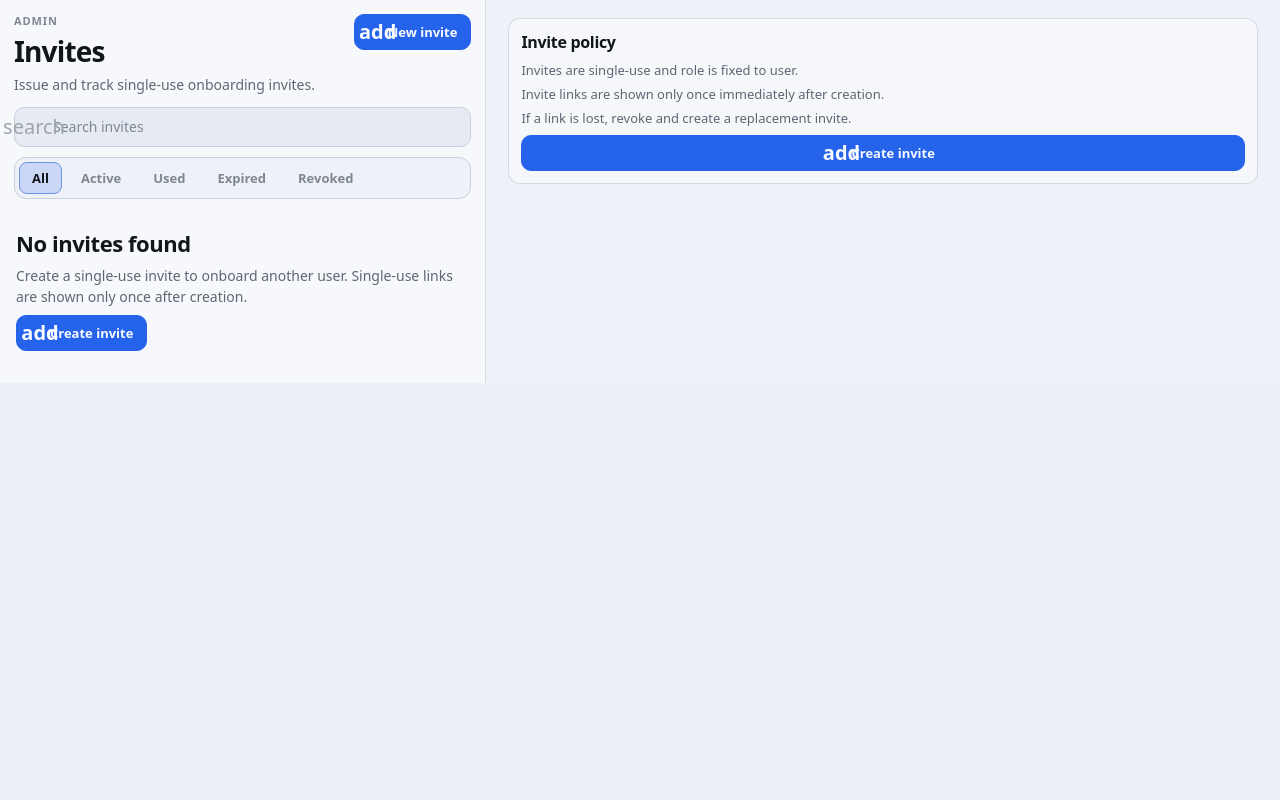
Scenario: AdminConsolePage › switches create invite dialog to post-creation state with Done action
Click the button "add New invite" at (413, 32), box [354,14,471,50]
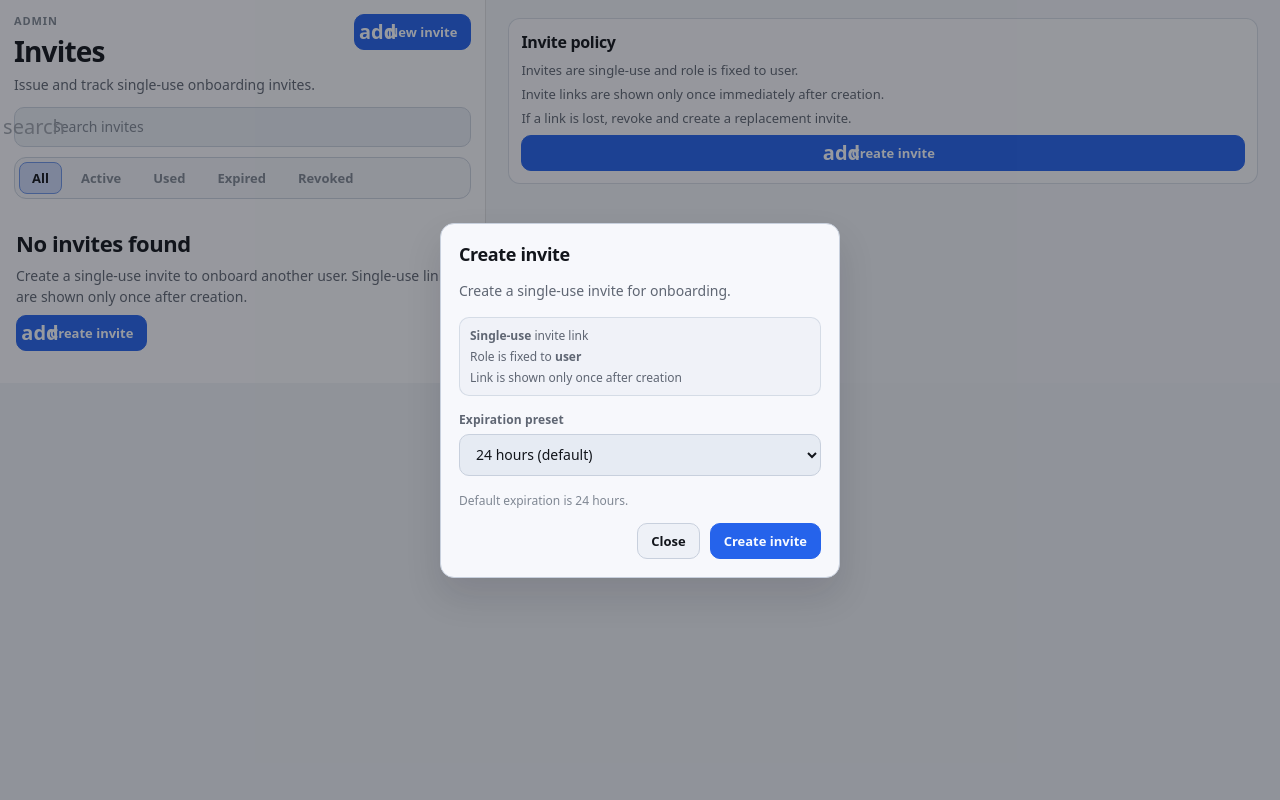
Click the button with test id "admin-create-invite-submit" at (765, 540), box [710,522,821,558]
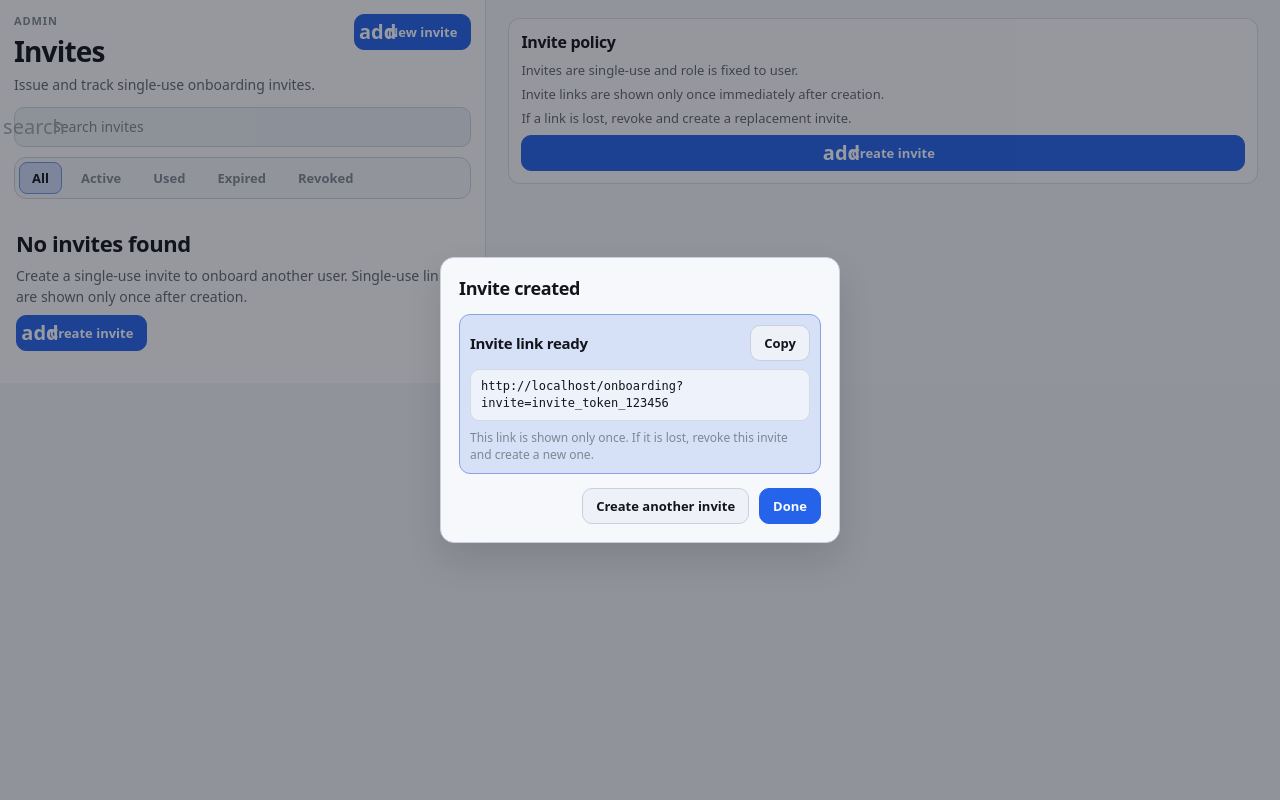
Result: the text "Invite created" is shown at [459,276,580,300]
Result: the text "This link is shown only once" is shown at [470,429,788,463]
Result: the button with test id "admin-create-invite-done" is shown at [759,488,821,524]
